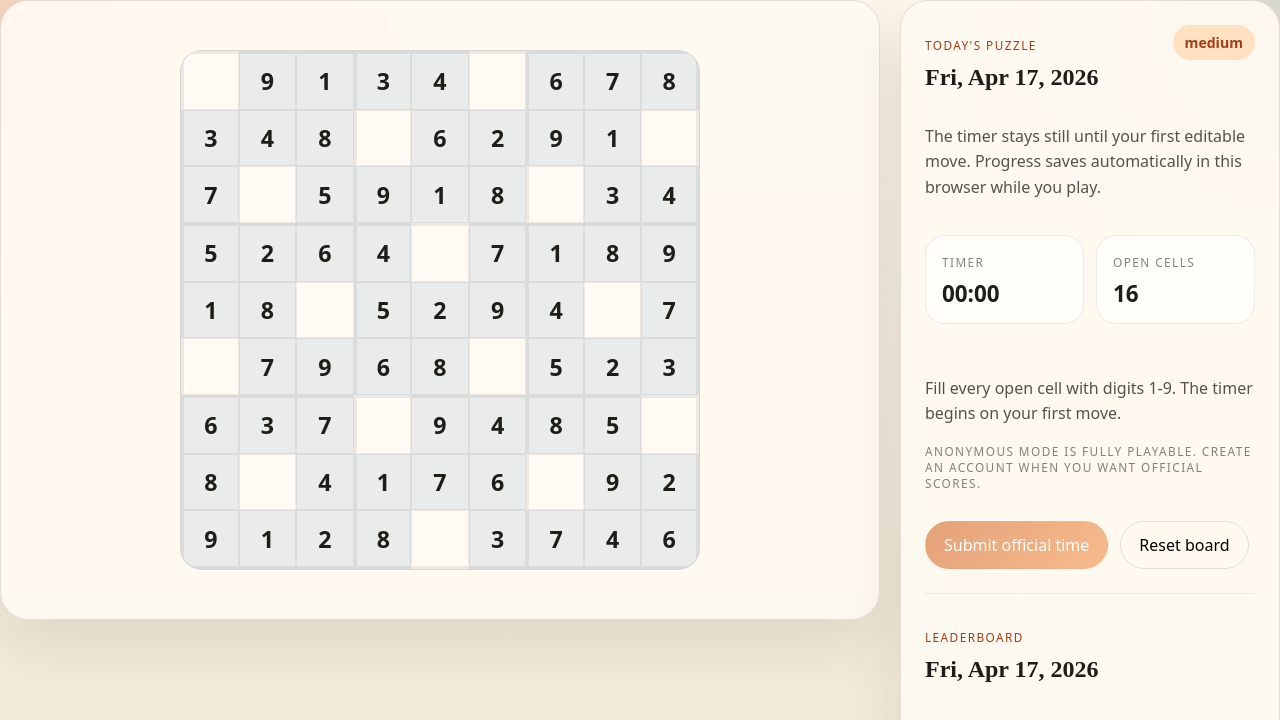
Test: DailySudokuExperience › keeps the timer at 00:00 until the first editable move
Check: the element with test id "sudoku-board" is shown, box [180,50,700,570]
Check: the text with test id "elapsed-timer" reads "00:00", box [942,278,1000,309]
Type "2" into the field with test id "cell-0". click: (210, 80)
box: [181,51,238,110]
Wait 2000 ms
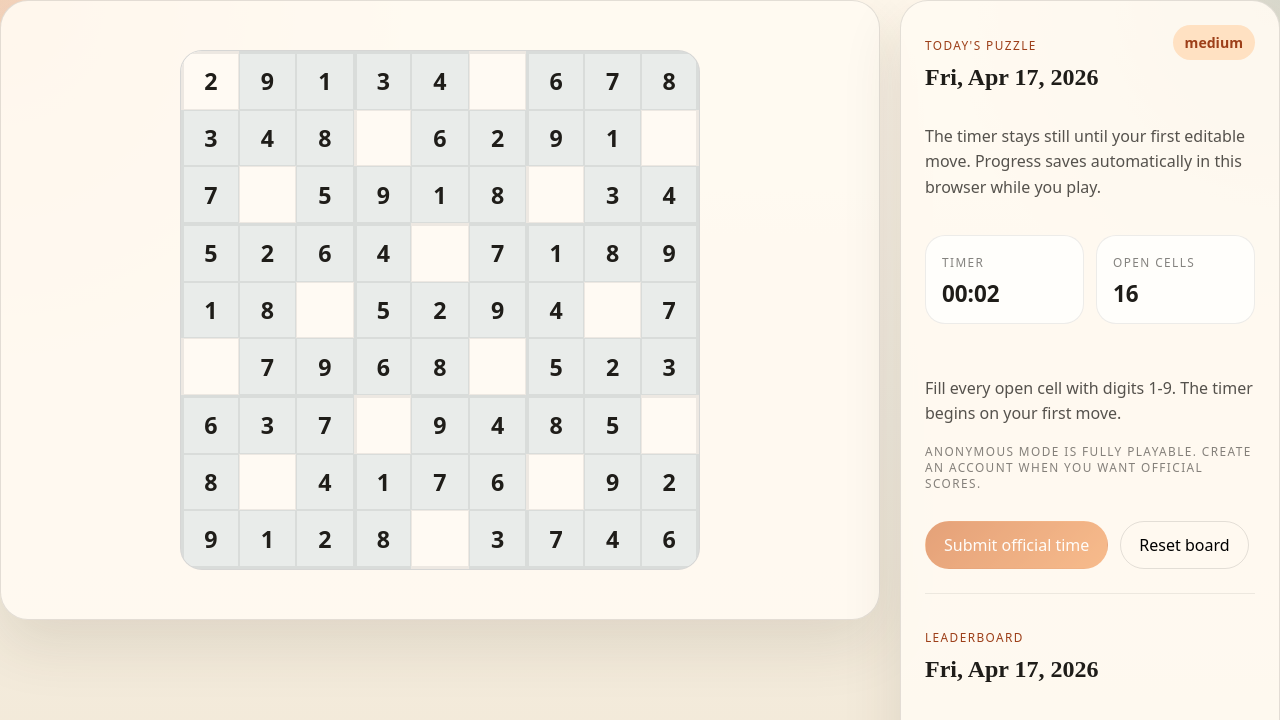
Check: the text with test id "elapsed-timer" reads "00:02", box [942,278,1000,309]
